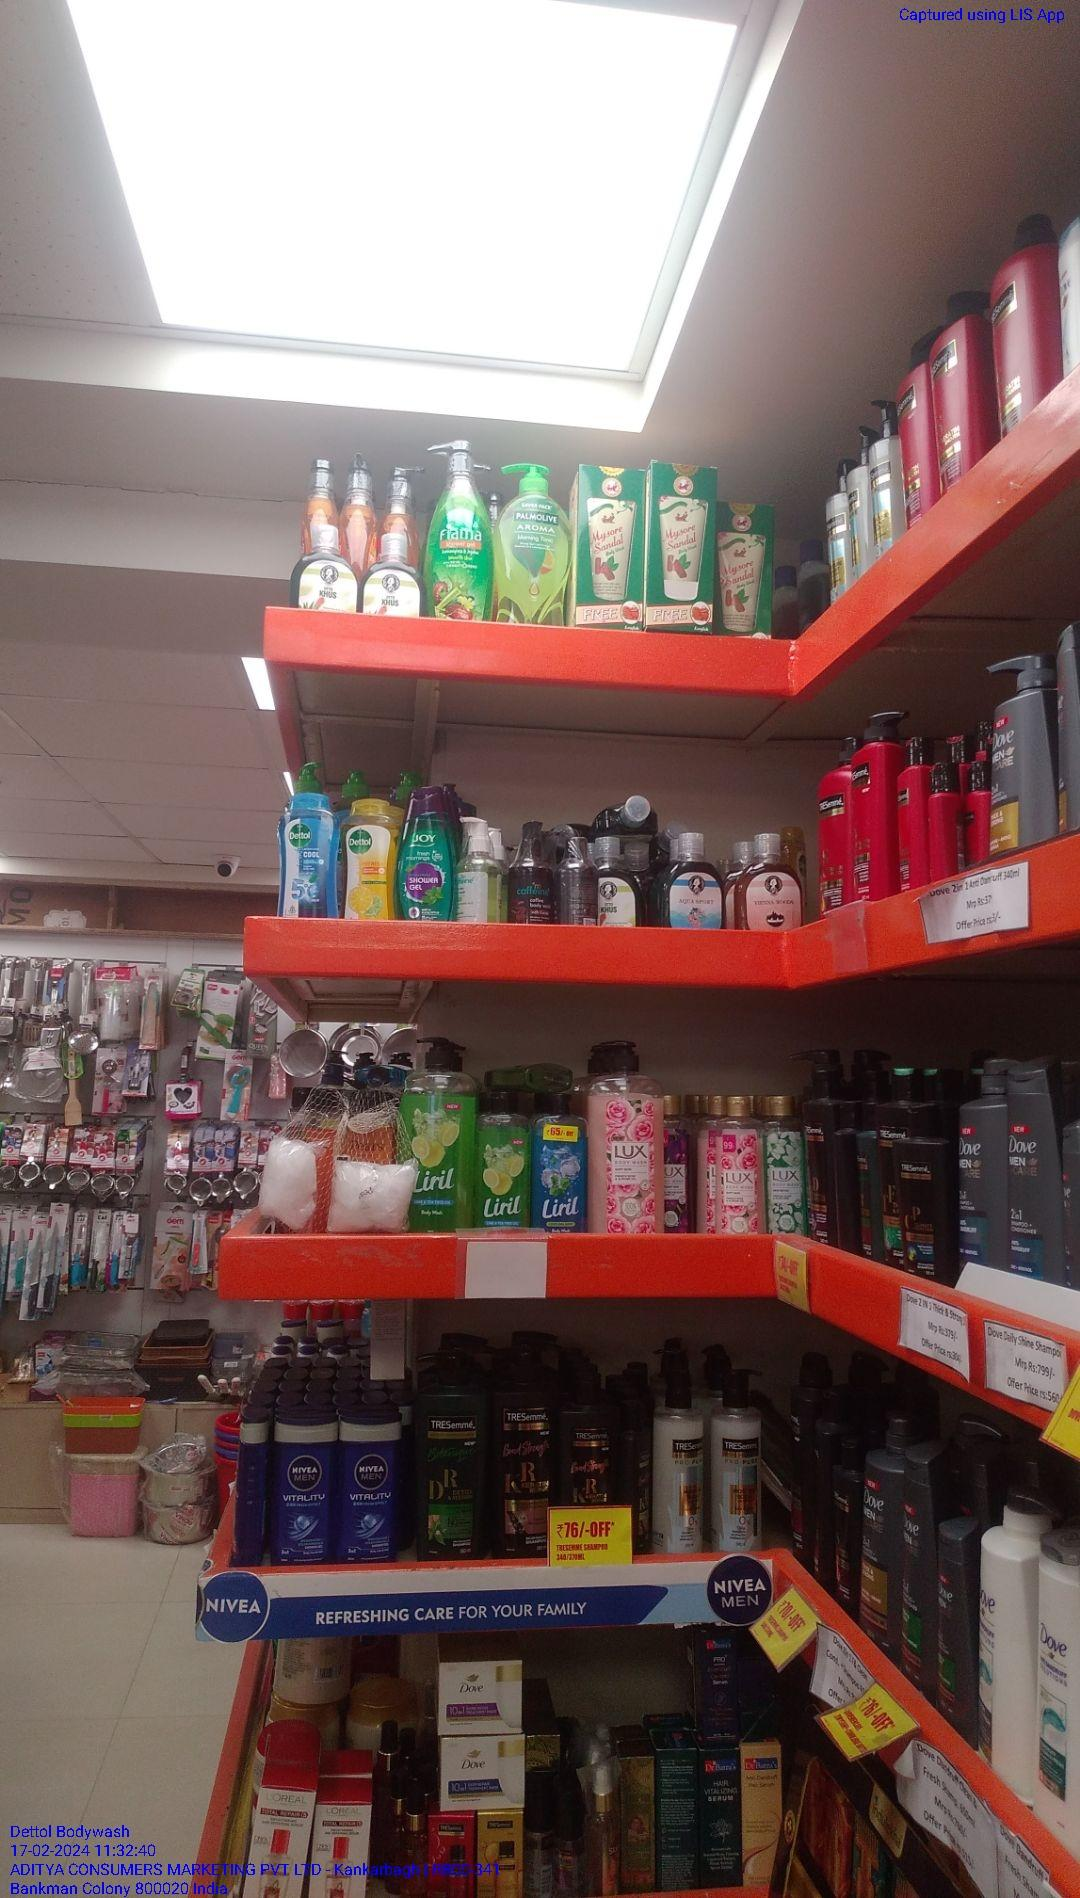Dettol_Bodywash_Cool: (277, 793, 338, 918)
Dettol_Bodywash_Refresh: (343, 799, 397, 920)
Joy_Shower_Gel_Mint_and_Eucalyptus_250ML: (400, 785, 454, 923)
Liril_Cooling_Mint_Body_Wash_250ML: (533, 1092, 587, 1231)
Liril_Lime_and_Tea_Tree_Oil_Body_Wash_250ML: (479, 1088, 528, 1227)
Lux_Body_Wash_Skin_Detox_Freesia_Scent_and_Alove_Vera_245ML: (764, 1094, 803, 1233)
